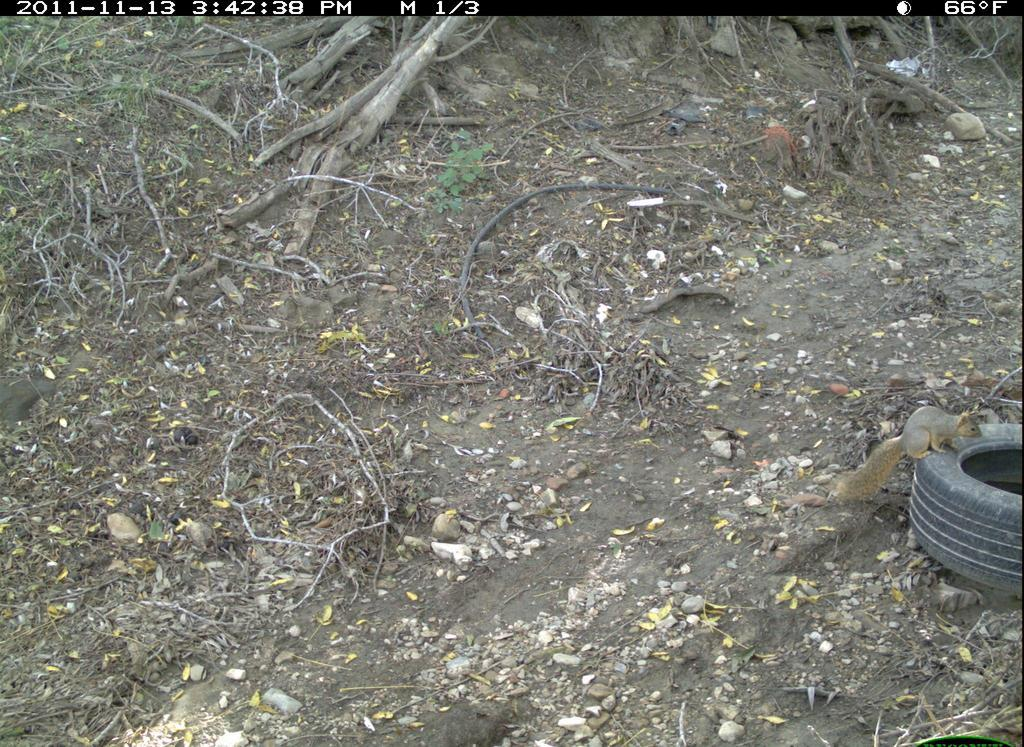squirrel: (833, 387, 987, 500)
